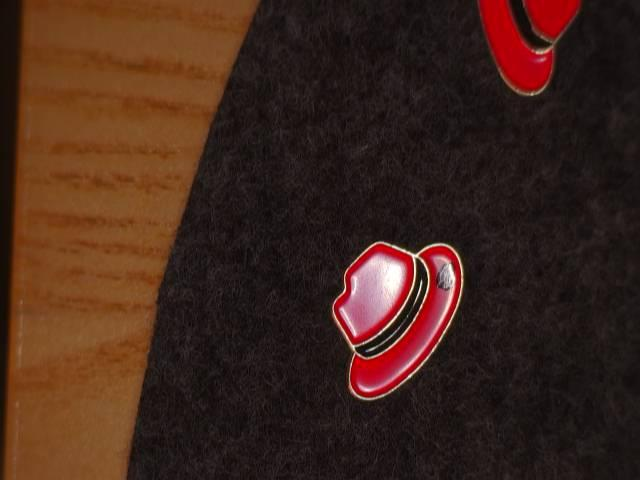Red-Hat: (329, 211, 473, 443), (464, 0, 587, 148)
Scratch: (428, 252, 466, 302)
